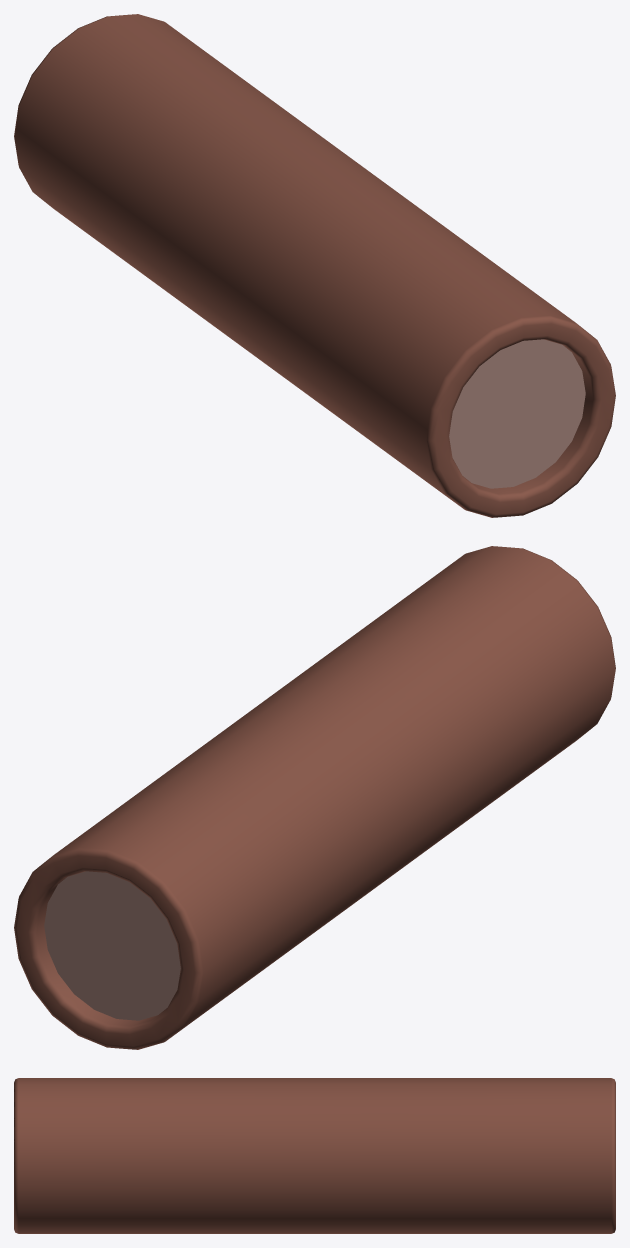
File: Farm_17_Log_1.glb
3 views of the same model, one above another, from view 1: azimuth 30°, elevation 25°; view 2: azimuth 150°, elevation 25°; view 3: azimuth 270°, elevation 25° (orthographic). The views are drawn at different scales.
Visible parts, largest first — view 1: Farm_17_Log_1; view 2: Farm_17_Log_1; view 3: Farm_17_Log_1.
Boxes of the visible parts, x1,y1,x2,y2 form: Farm_17_Log_1: (14,14,615,517); Farm_17_Log_1: (14,546,615,1049); Farm_17_Log_1: (14,1078,615,1233).
Size of the model in its own units: 0.4726 by 0.4726 by 1.81.
1 material, 1 textured.
